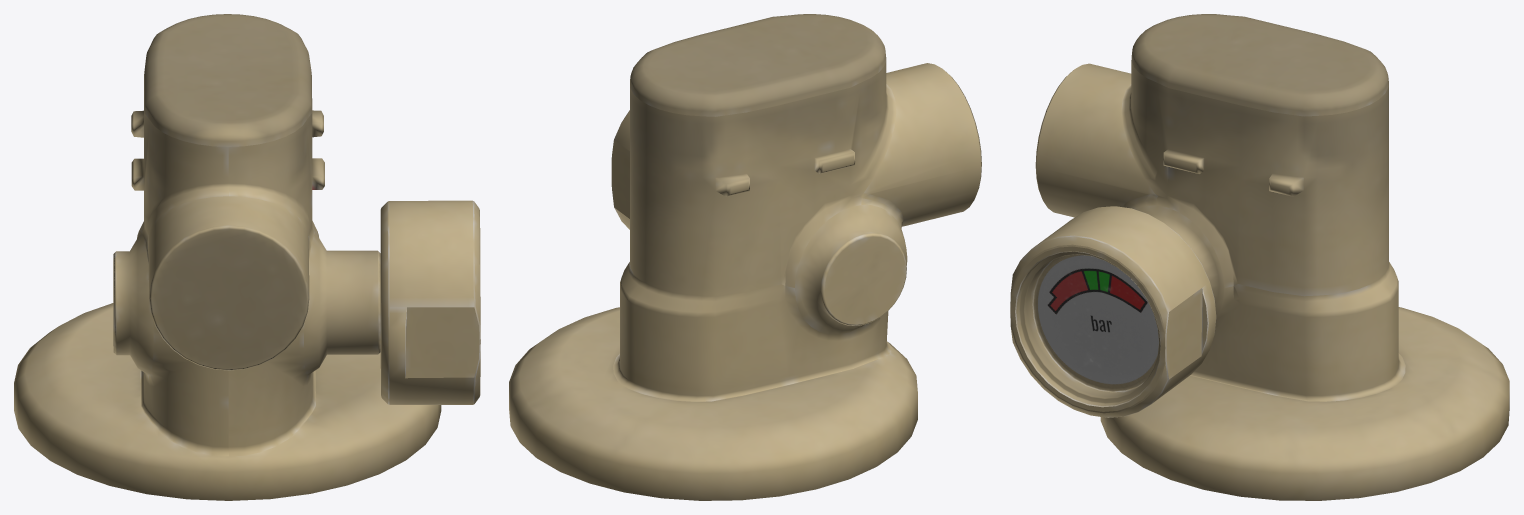
The model's file is Guage.glb.
3 views of the same model, side by side, from view 1: azimuth 30°, elevation 25°; view 2: azimuth 150°, elevation 25°; view 3: azimuth 270°, elevation 25° (orthographic). The views are drawn at different scales.
Visible parts, largest first — view 1: Object_16; view 2: Object_16; view 3: Object_16.
Boxes of the visible parts, bbox=[...] form: Object_16: bbox=[14, 14, 480, 500]; Object_16: bbox=[509, 14, 981, 500]; Object_16: bbox=[1010, 14, 1509, 500].
Bounding box in the file's own units: 0.0488 × 0.0461 × 0.0596.
Materials: 1 (1 with a texture image).
